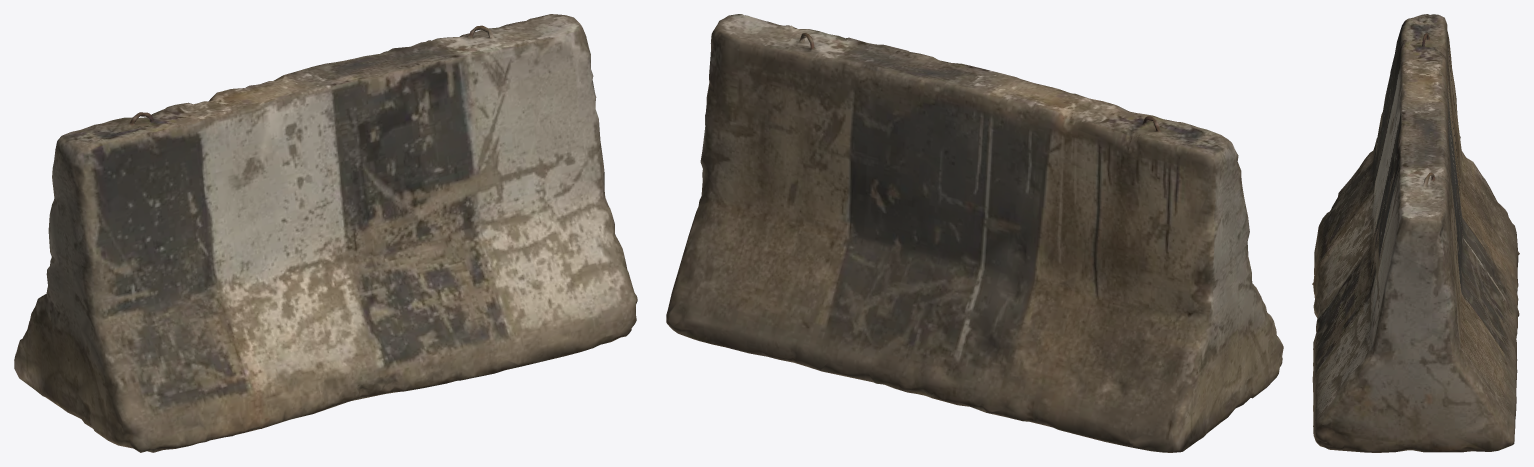
Rendered from concrete_road_barrier.glb.
The picture shows the model from 3 angles, left to right: view 1: azimuth 30°, elevation 25°; view 2: azimuth 150°, elevation 25°; view 3: azimuth 270°, elevation 25°; orthographic projection. The views are drawn at different scales.
Parts seen in each view (by area): view 1: concrete_road_barrier; view 2: concrete_road_barrier; view 3: concrete_road_barrier.
Part boxes in pixels (left/top/right/bottom): concrete_road_barrier: left=14, top=14, right=637, bottom=452; concrete_road_barrier: left=666, top=14, right=1283, bottom=452; concrete_road_barrier: left=1312, top=14, right=1519, bottom=452.
Size of the model in its own units: 1.54 by 0.8303 by 0.6387.
1 material, 1 textured.
